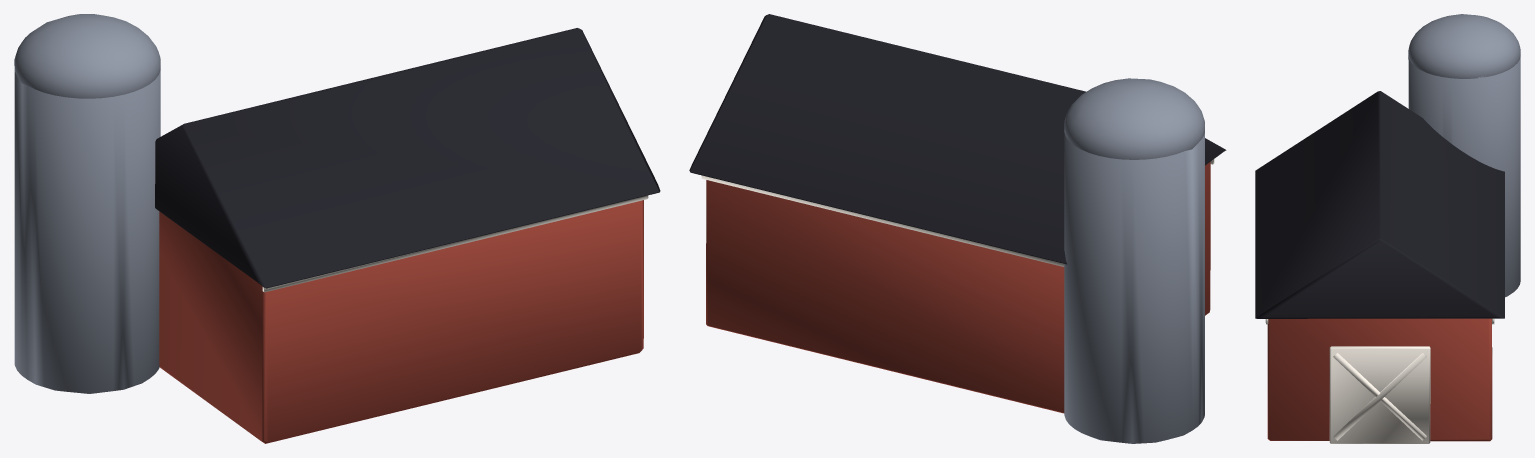
Rendered from barn.glb.
The picture shows the model from 3 angles, left to right: view 1: azimuth 30°, elevation 25°; view 2: azimuth 150°, elevation 25°; view 3: azimuth 270°, elevation 25°; orthographic projection. The views are drawn at different scales.
Parts seen in each view (by area): view 1: barn; view 2: barn; view 3: barn.
Boxes of the visible parts, <box> form: barn: <box>14,14,660,443</box>; barn: <box>689,14,1226,443</box>; barn: <box>1255,14,1520,443</box>.
Bounding box in the file's own units: 15.79 × 10.18 × 9.43.
Materials: 1 (1 with a texture image).
